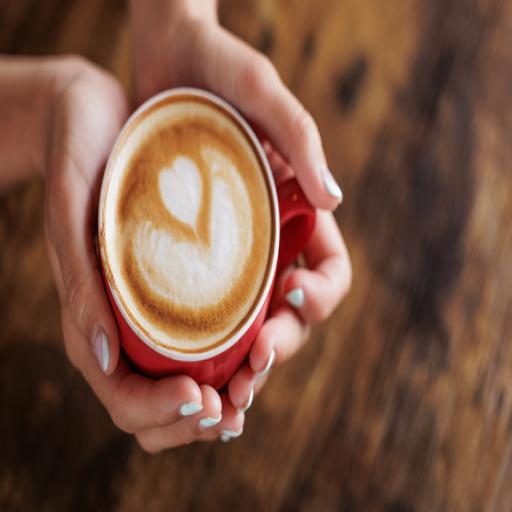phone: (97, 85, 316, 397)
